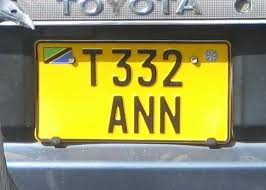T: (78, 45, 106, 93)
